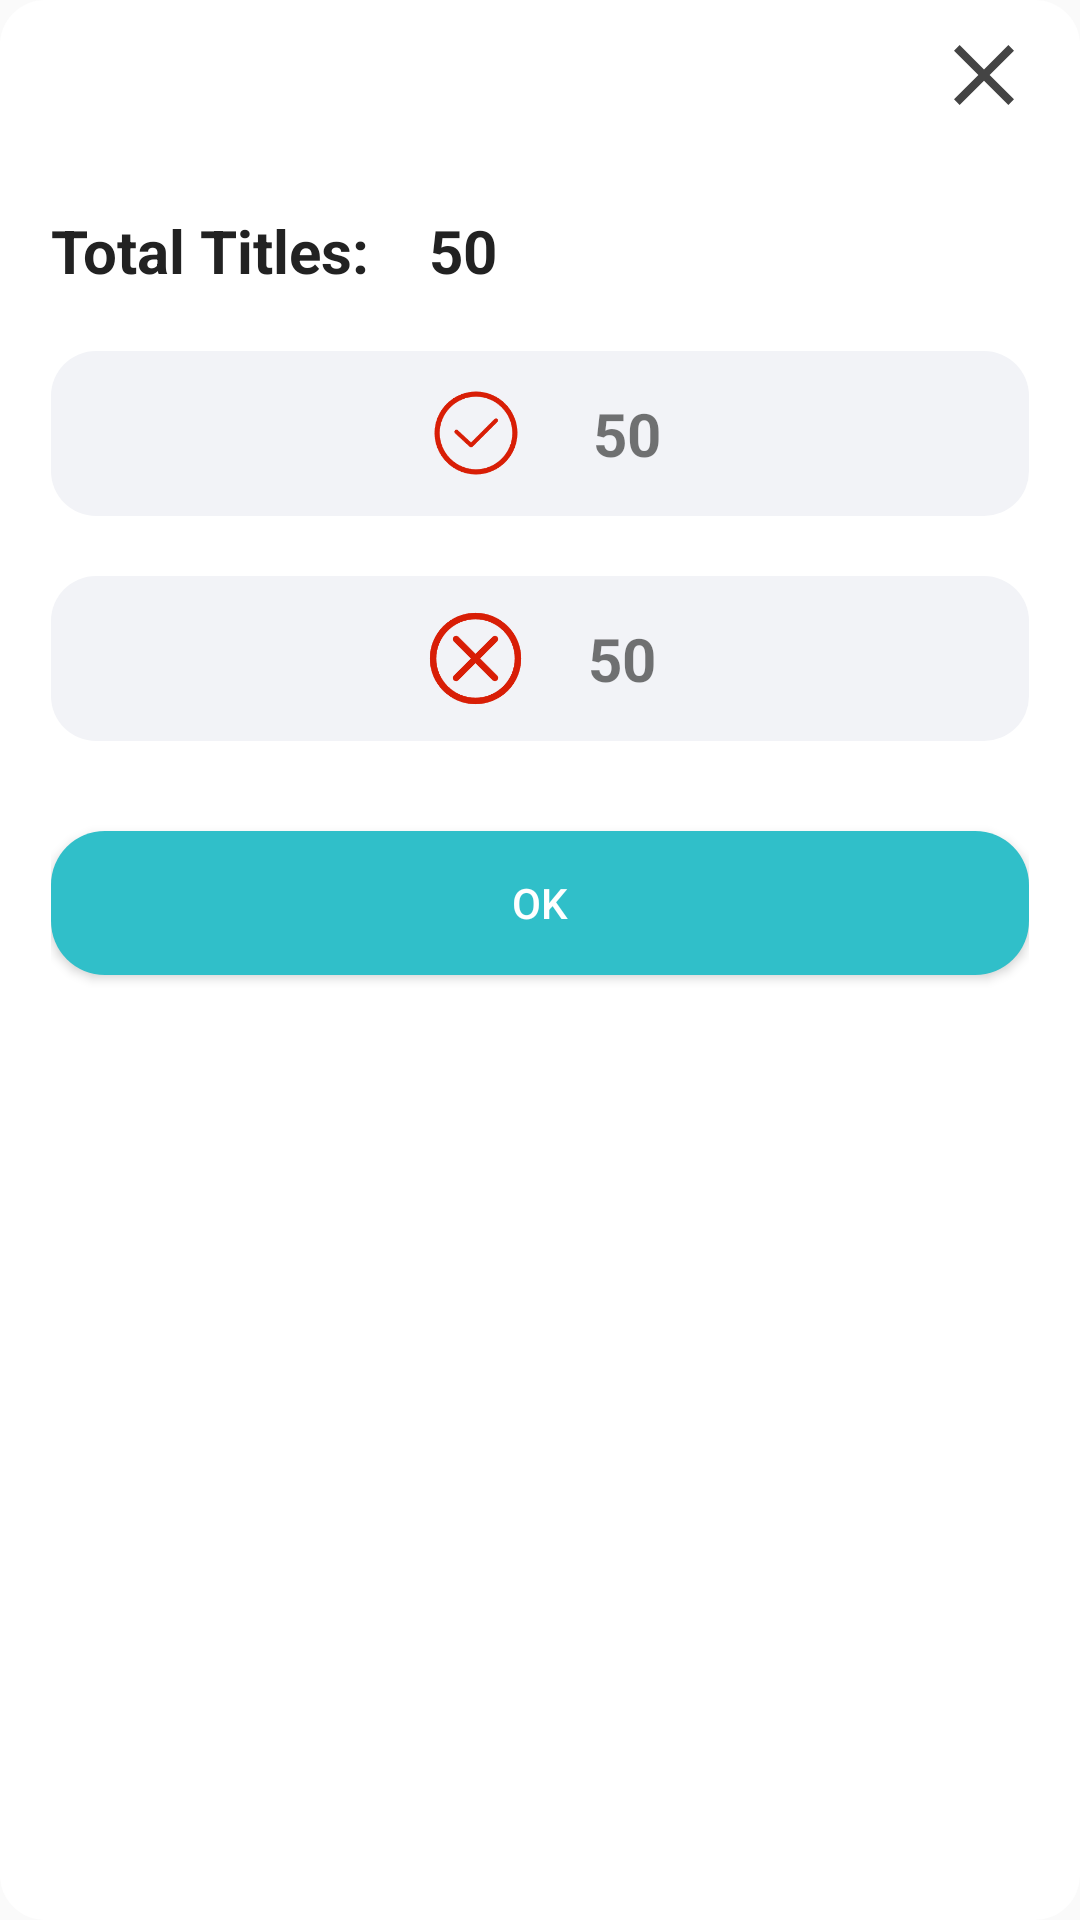

Where icons sit on this 1080px×1920px app screen, as BBox(x1, y1, x2, y2):
closs: BBox(954, 45, 1014, 105)
cuowu: BBox(430, 612, 522, 704)
yes en: BBox(434, 391, 518, 475)
